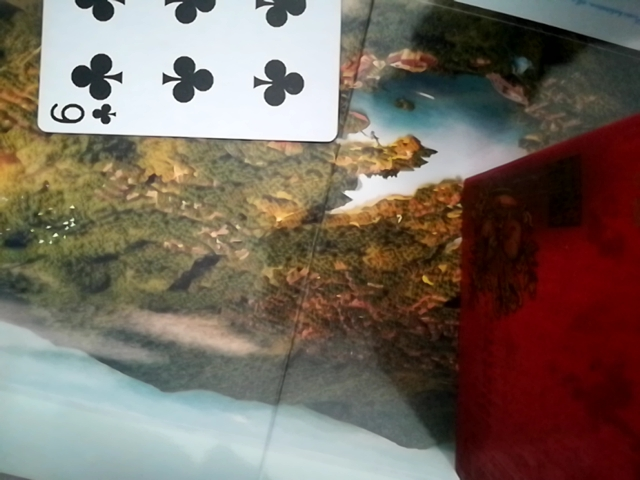mh 6: (30, 0, 344, 138)
